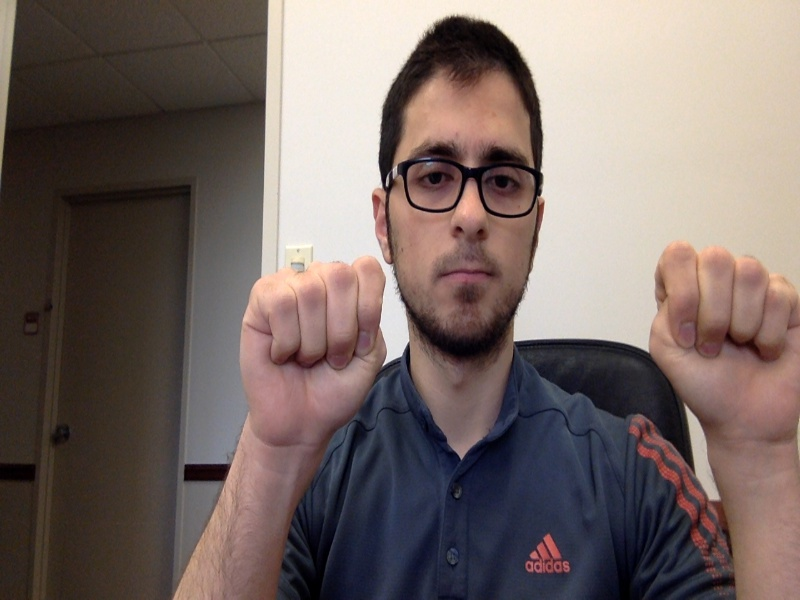0-hand: (650, 243, 800, 445), (239, 258, 386, 450)
